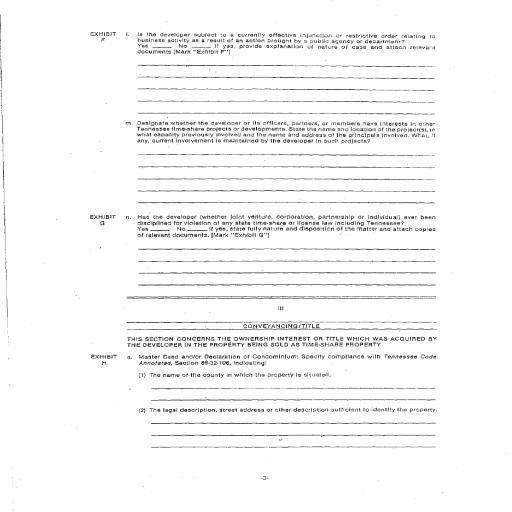check_box: (136, 226, 210, 233), (136, 44, 213, 50)
free_text: (136, 120, 441, 147), (148, 403, 439, 417), (147, 369, 335, 382)
